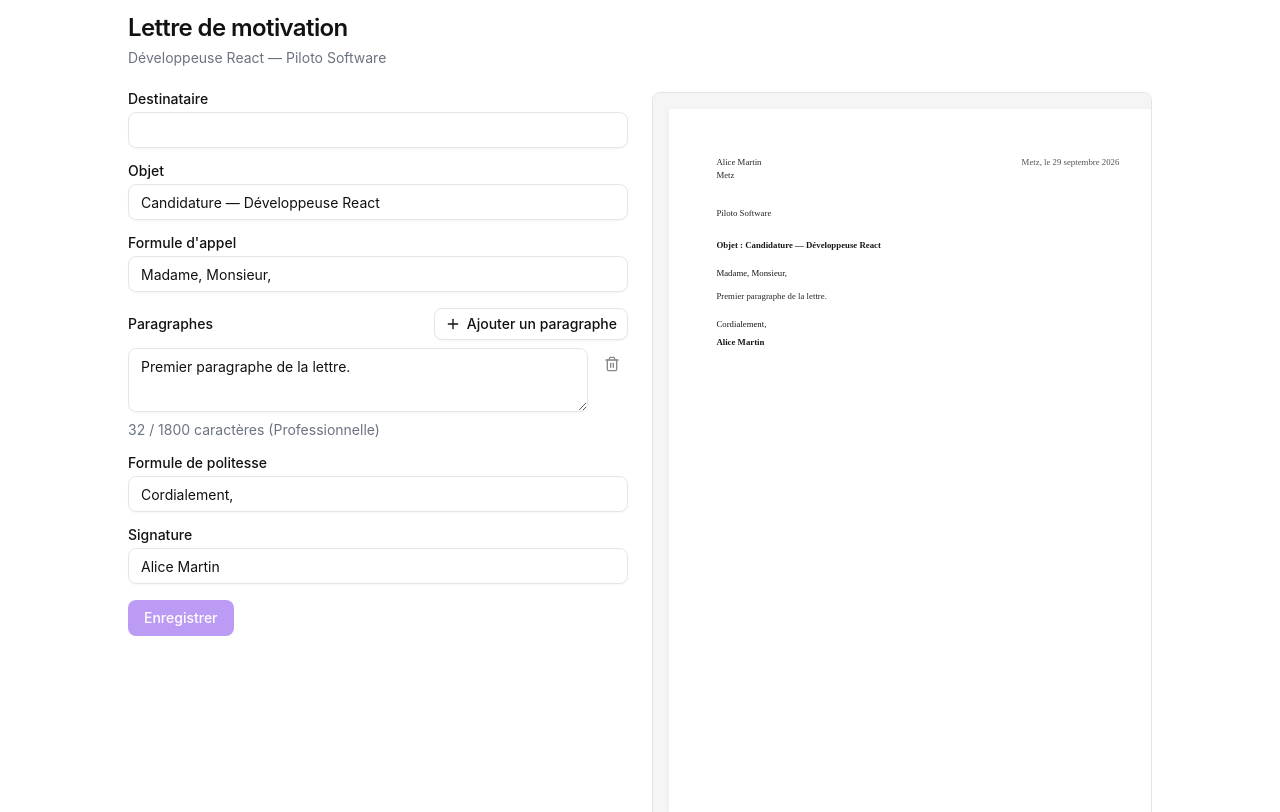
Scenario: CoverLetterPage — lettre existante › ajoute et retire des paragraphes avec un plafond de 6
Expected: the field labelled "Objet" is shown, [128, 184, 628, 220]
Click the button "Ajouter un paragraphe" at (531, 324), box [434, 308, 628, 340]
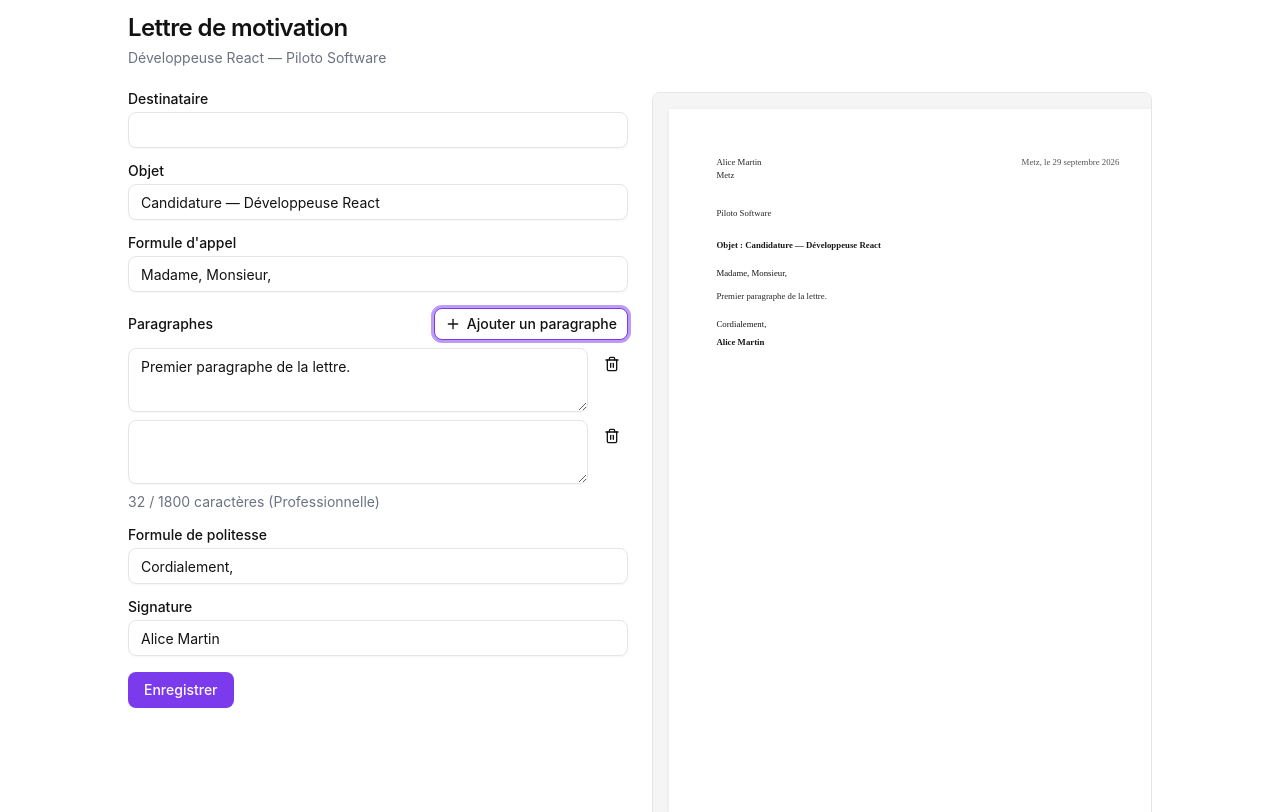
Click the button "Ajouter un paragraphe" at (531, 324), box [434, 308, 628, 340]
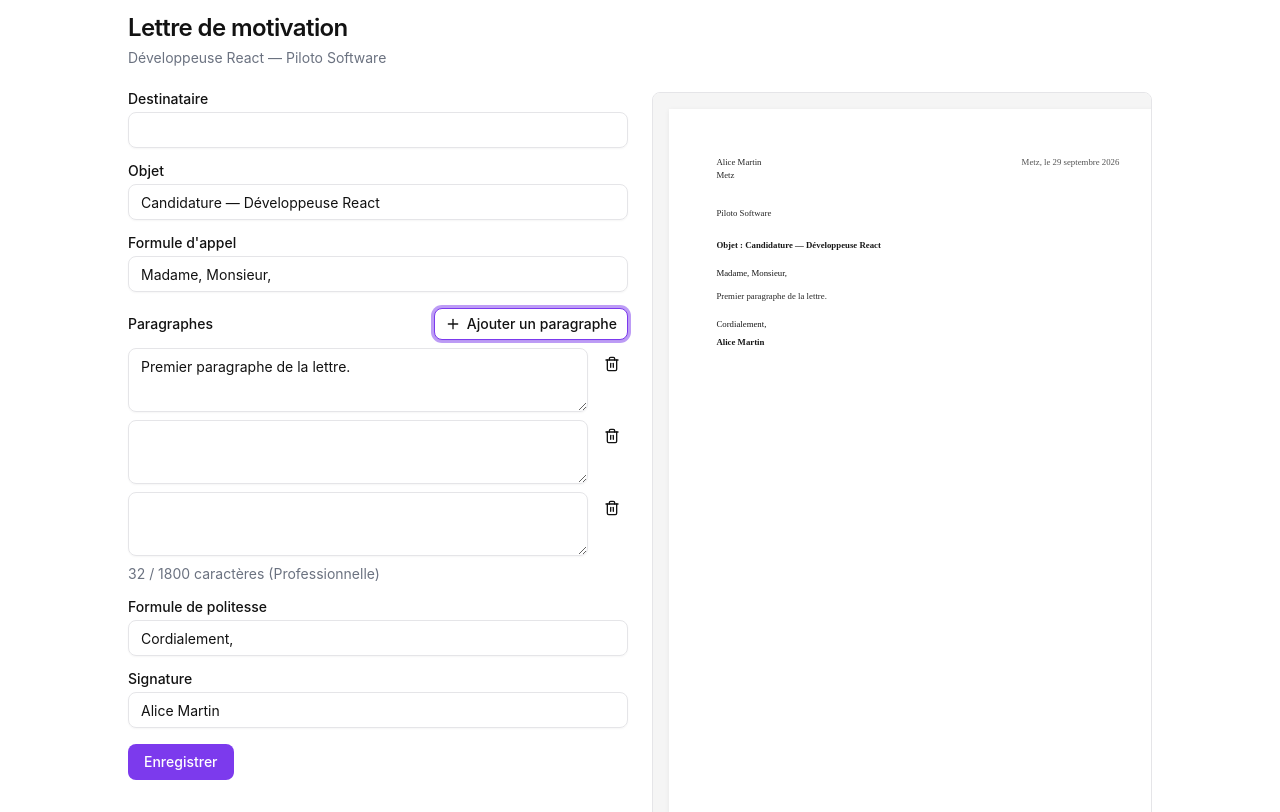
Click the button "Ajouter un paragraphe" at (531, 324), box [434, 308, 628, 340]
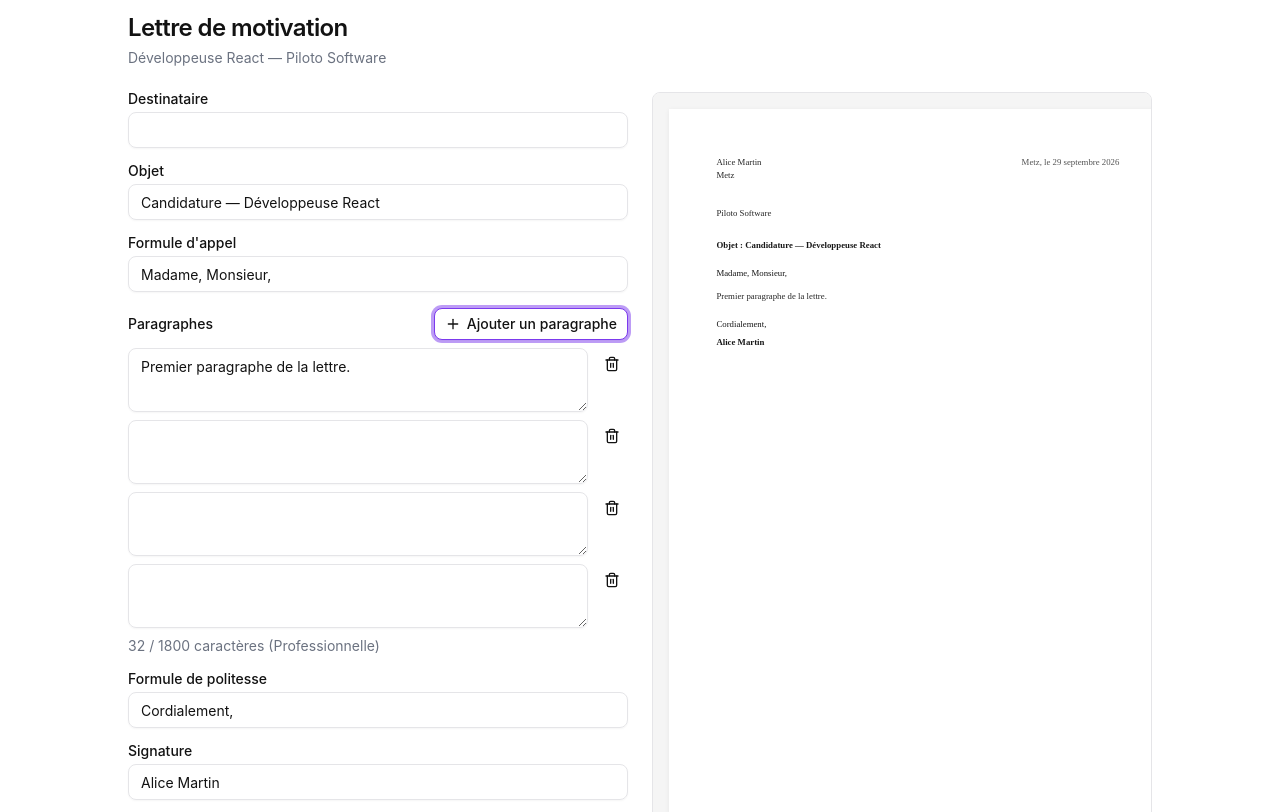
Click the button "Ajouter un paragraphe" at (531, 324), box [434, 308, 628, 340]
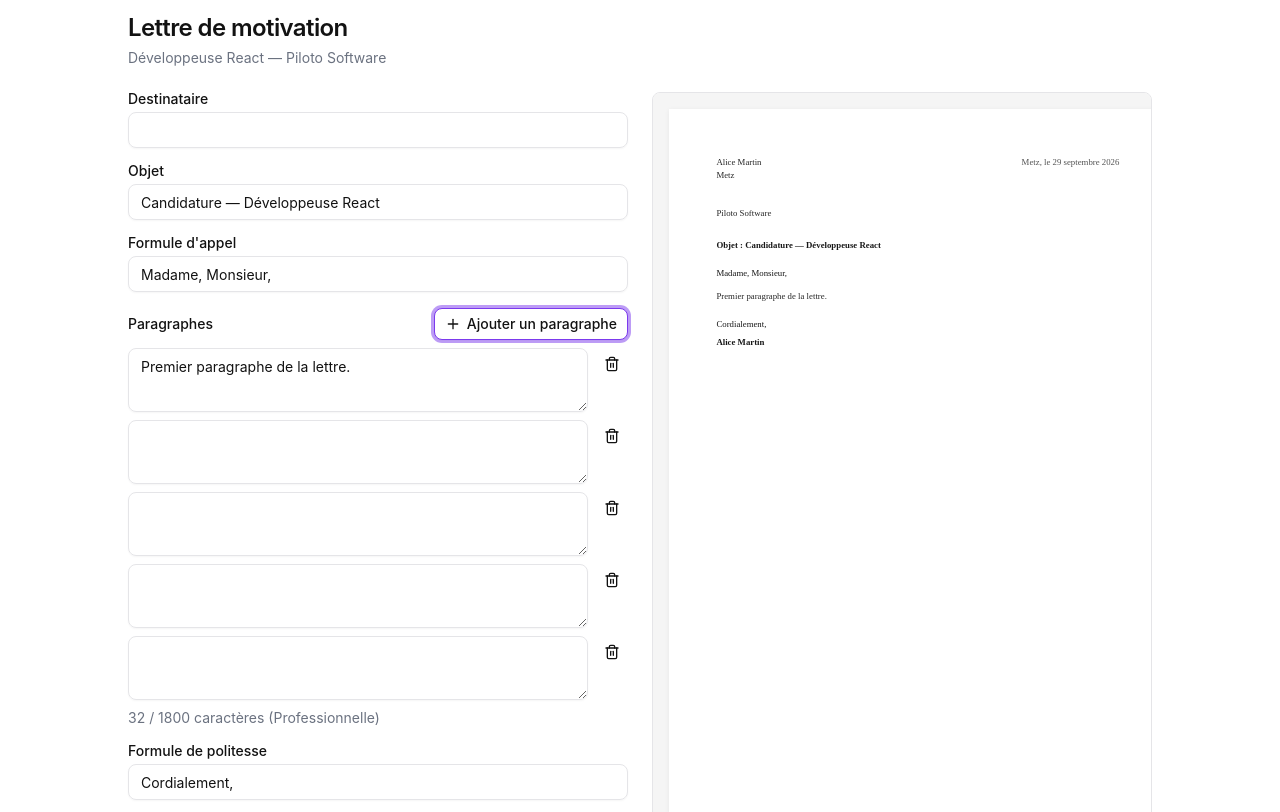
Click the button "Ajouter un paragraphe" at (531, 324), box [434, 308, 628, 340]
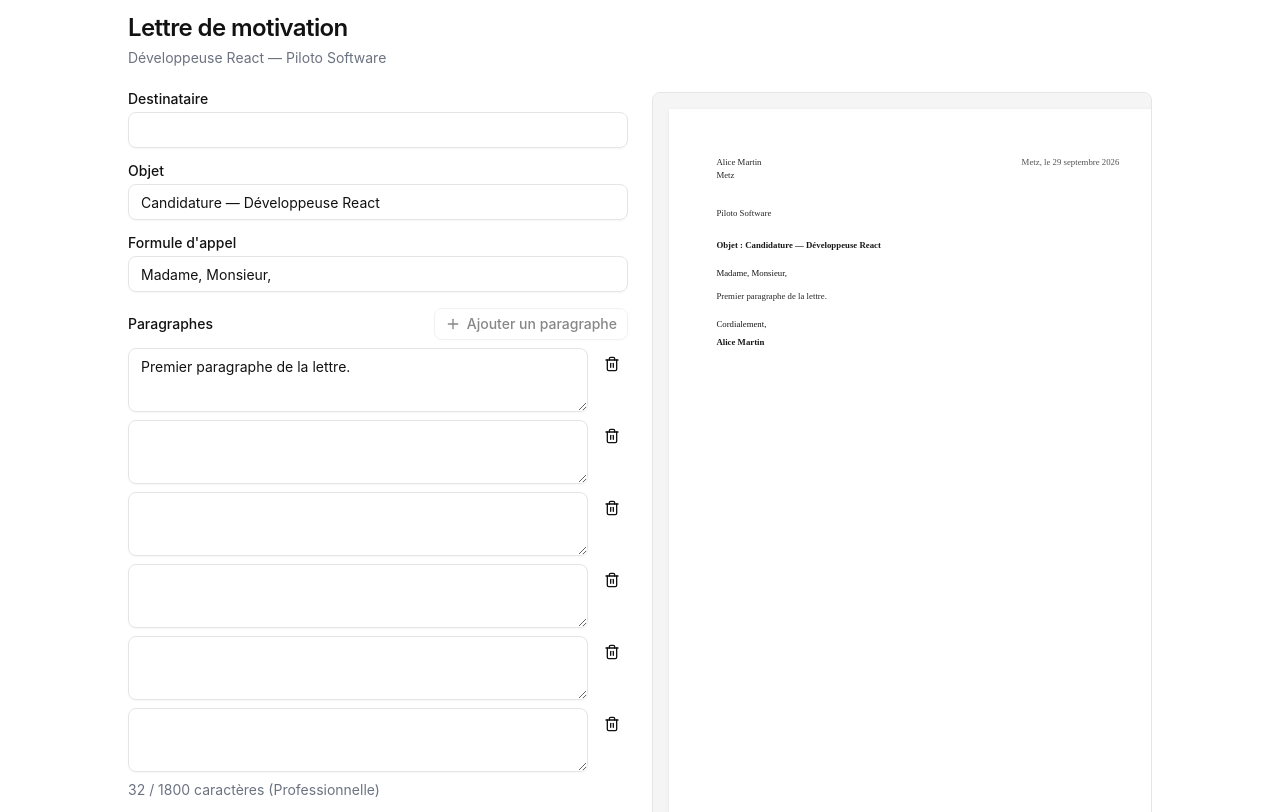
Expected: the number of text boxes named "Paragraphe 1" is 6, [128, 348, 588, 412]; [128, 420, 588, 484]; [128, 492, 588, 556]; [128, 564, 588, 628]; [128, 636, 588, 700]; [128, 708, 588, 772]
Expected: the button "Ajouter un paragraphe" is disabled, [434, 308, 628, 340]
Click the button named "Retirer le paragraphe" at (612, 364), box [596, 348, 628, 380]
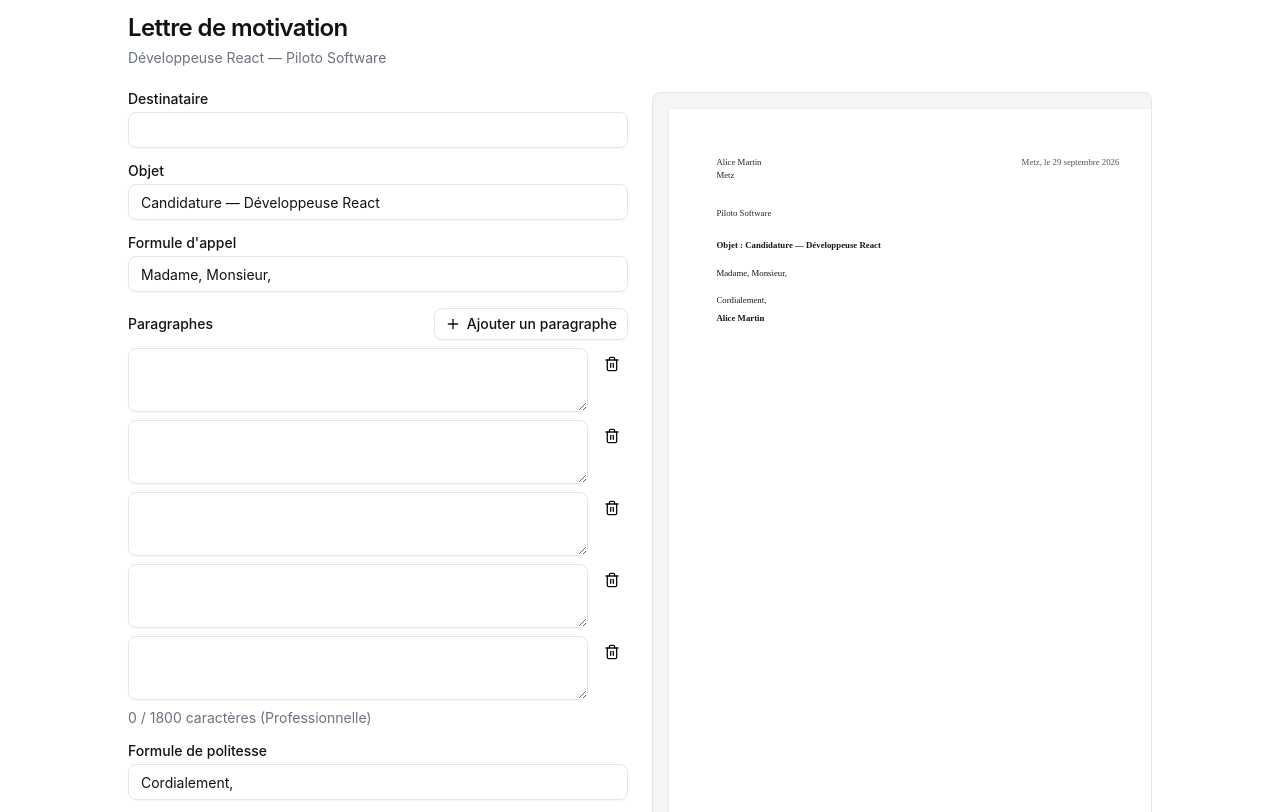
Expected: the number of text boxes named "Paragraphe 1" is 5, [128, 348, 588, 412]; [128, 420, 588, 484]; [128, 492, 588, 556]; [128, 564, 588, 628]; [128, 636, 588, 700]
Expected: the button "Ajouter un paragraphe" is enabled, [434, 308, 628, 340]
